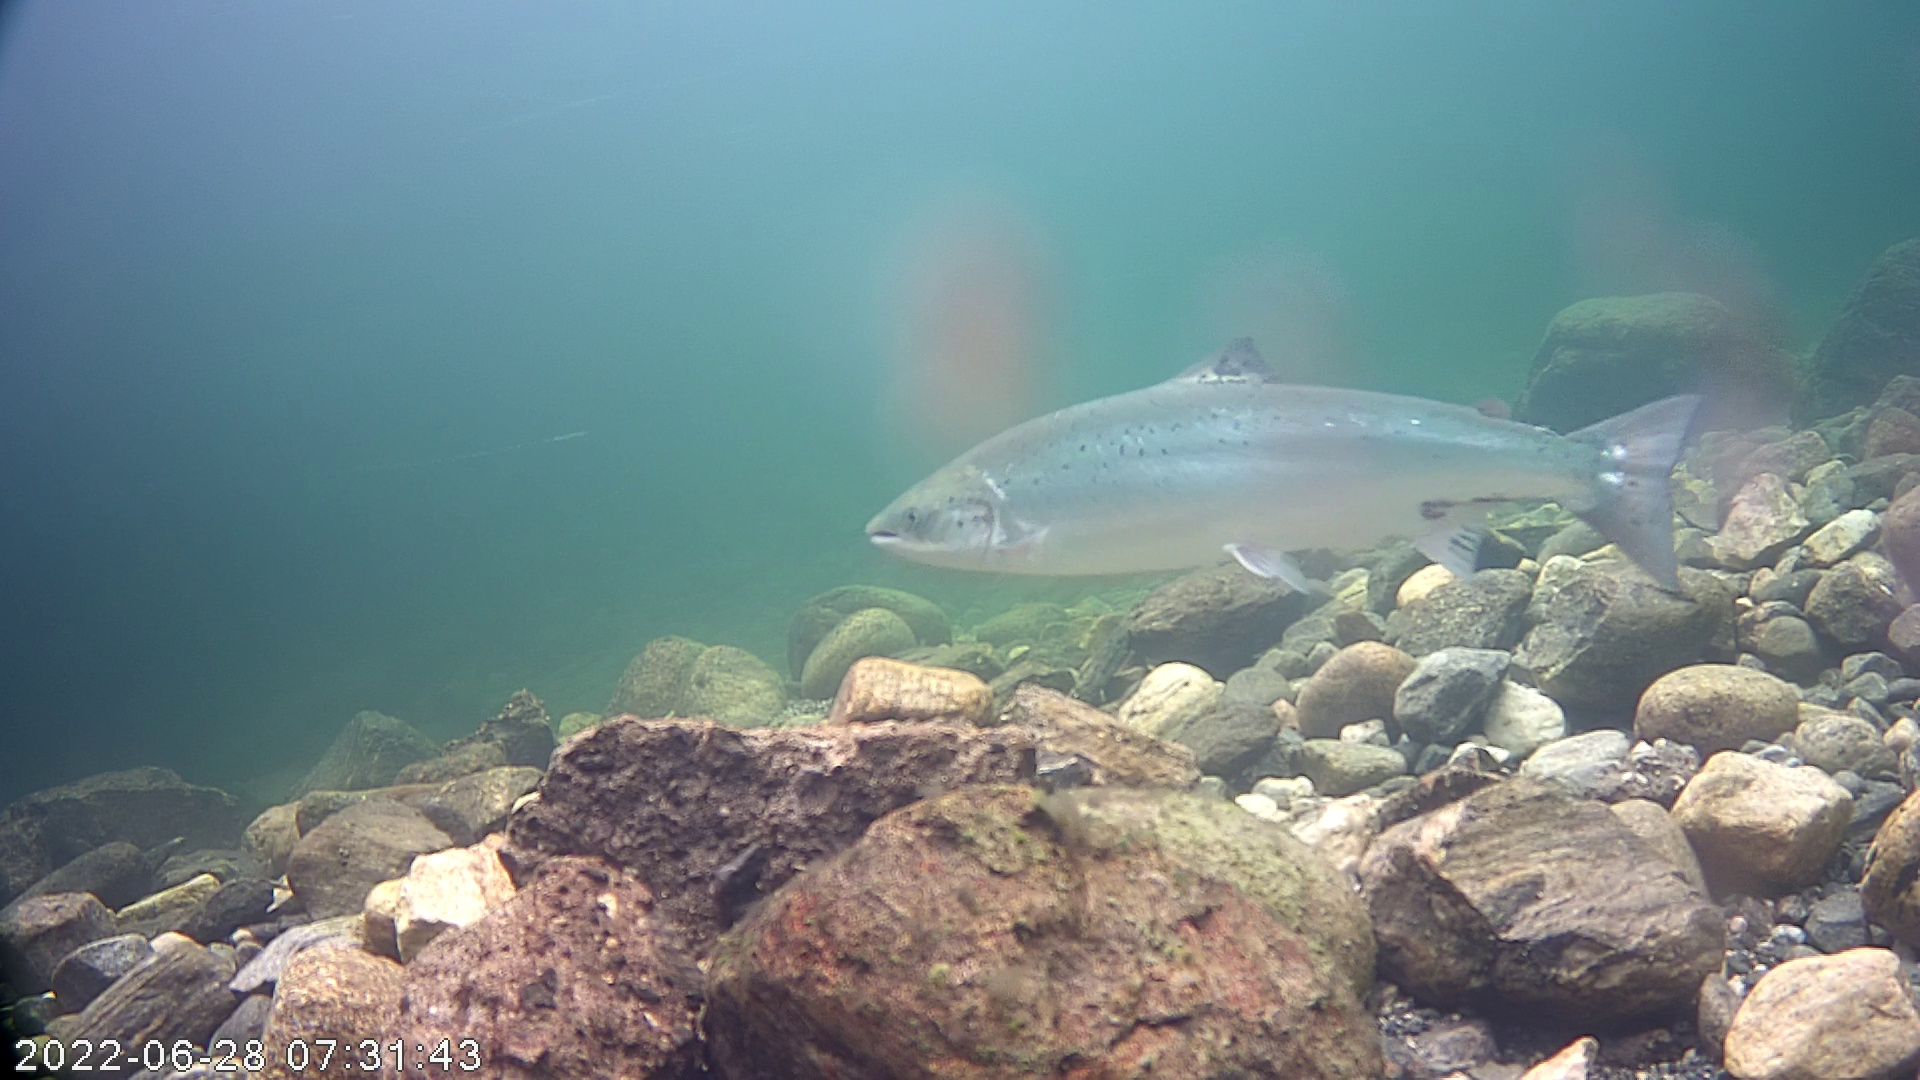salmon: (855, 222, 1722, 650)
